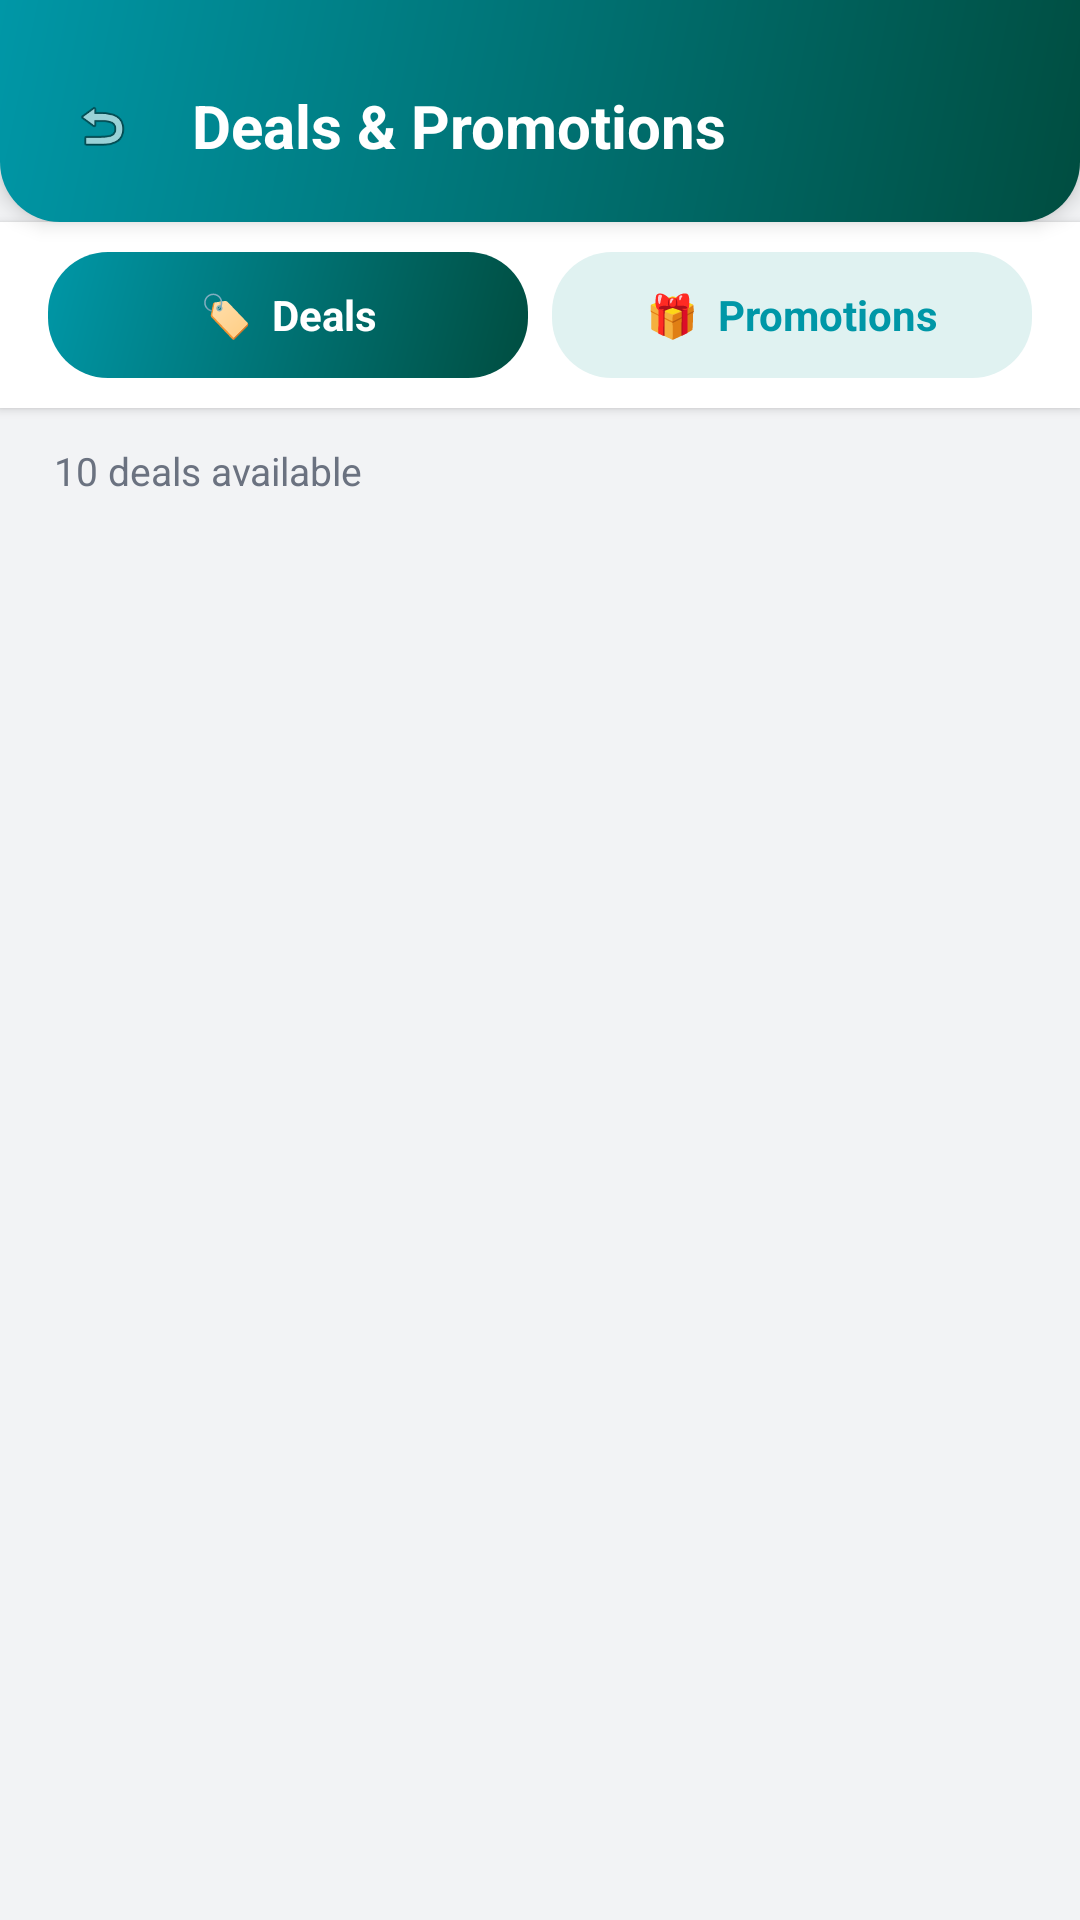

Icon bounding boxes for this 1080×1920 phone screenshot, format (x1, y1, x2, y2):
Back: (81, 107, 124, 146)
